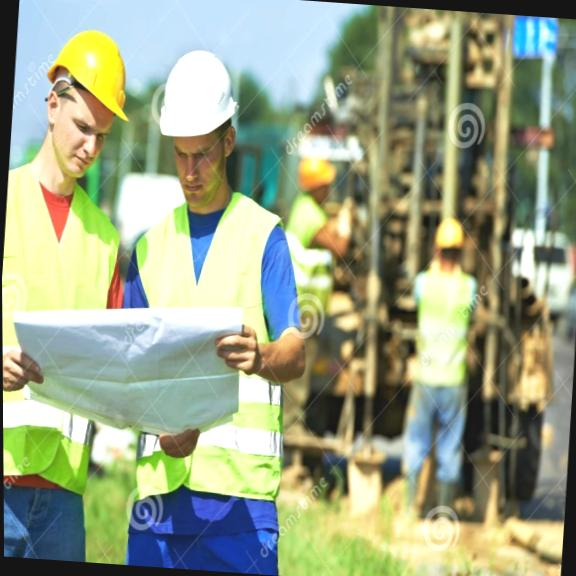safety_vest: (118, 204, 303, 502), (1, 173, 116, 486)
